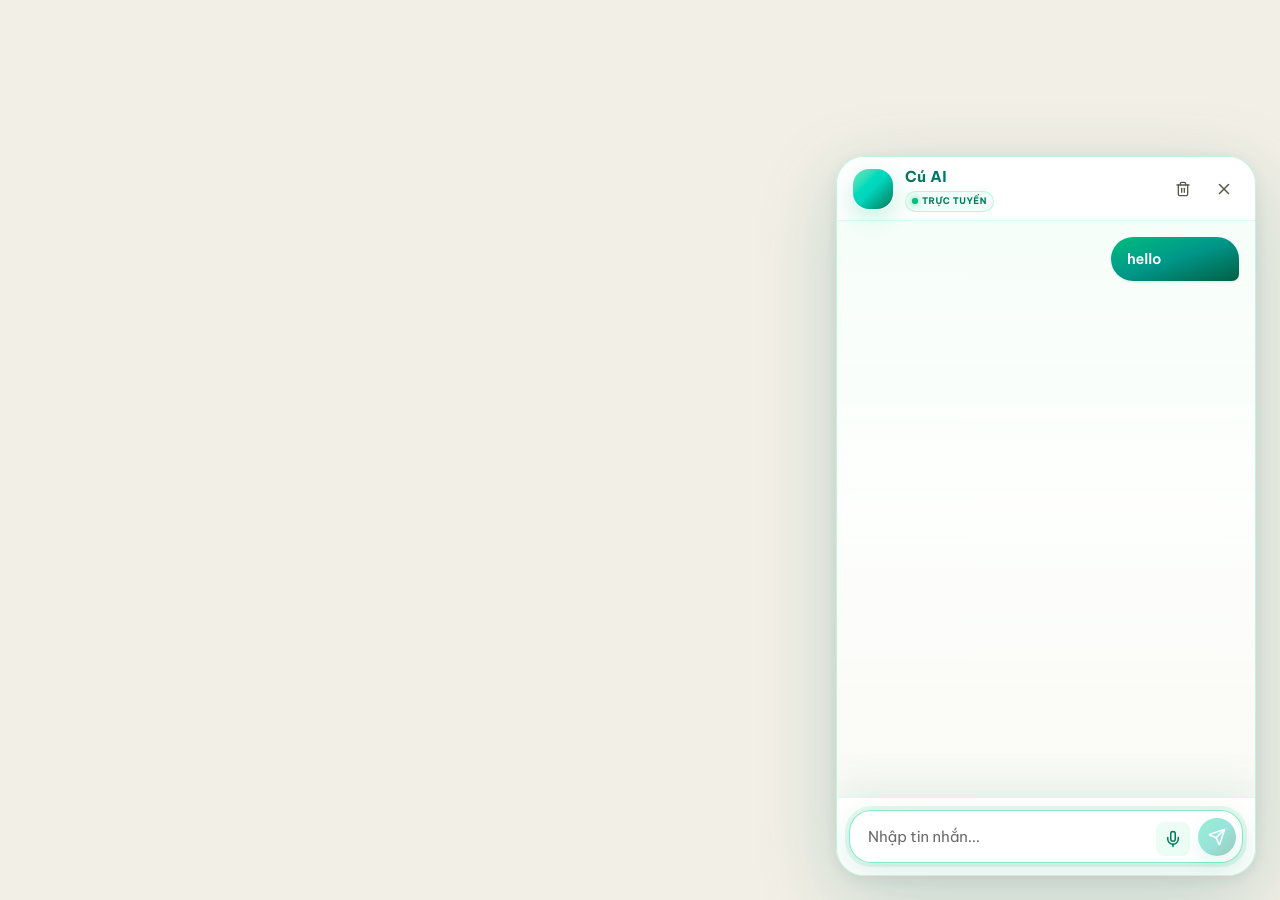
AssistantPanel › clears history when user confirms
Check: the text "hello" is shown, box [1127,249,1162,268]
Click the button named "Xóa lịch sử chat" at (1183, 188), box [1169,174,1197,202]
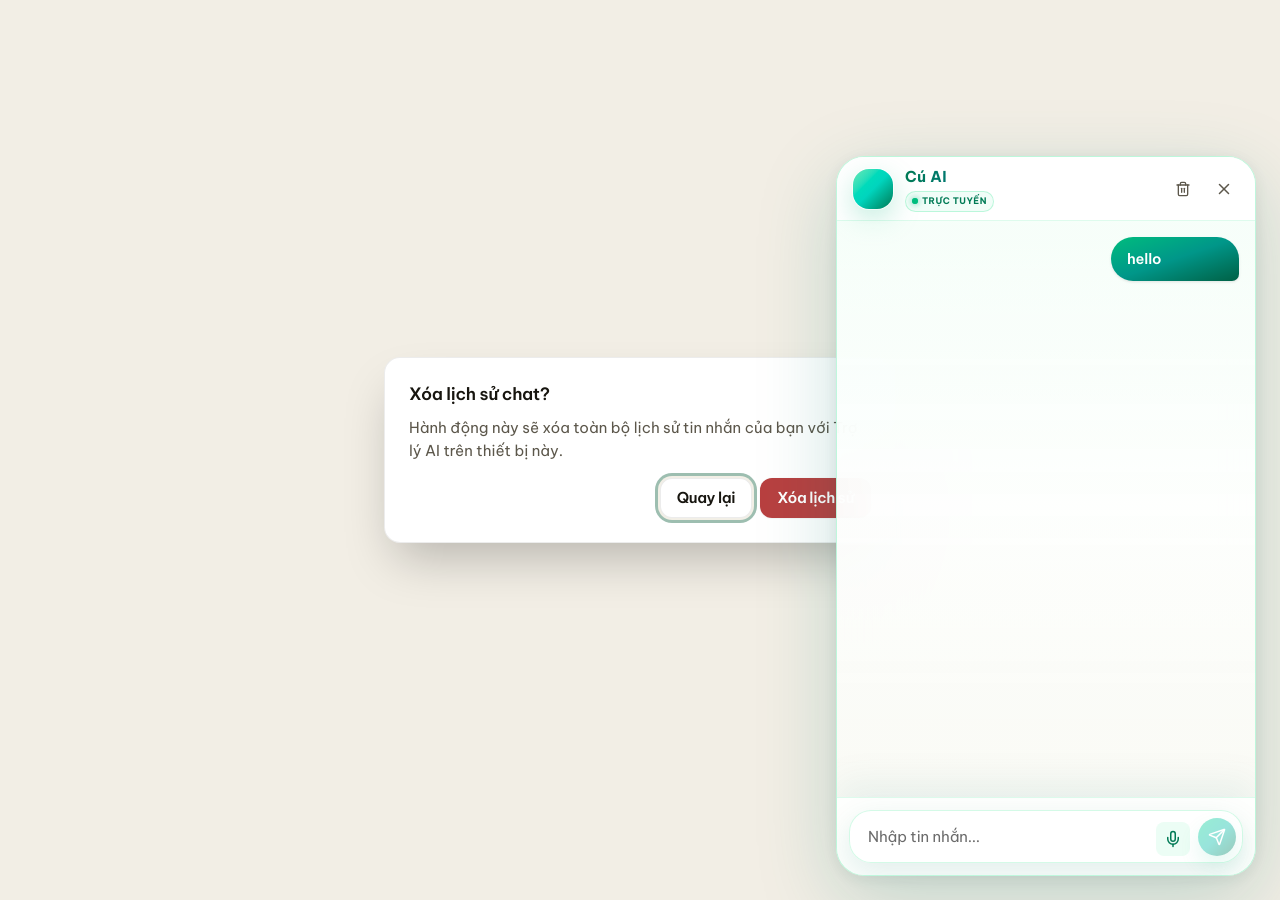
Click the button "Xóa lịch sử" at (816, 498), box [760,478,871,518]
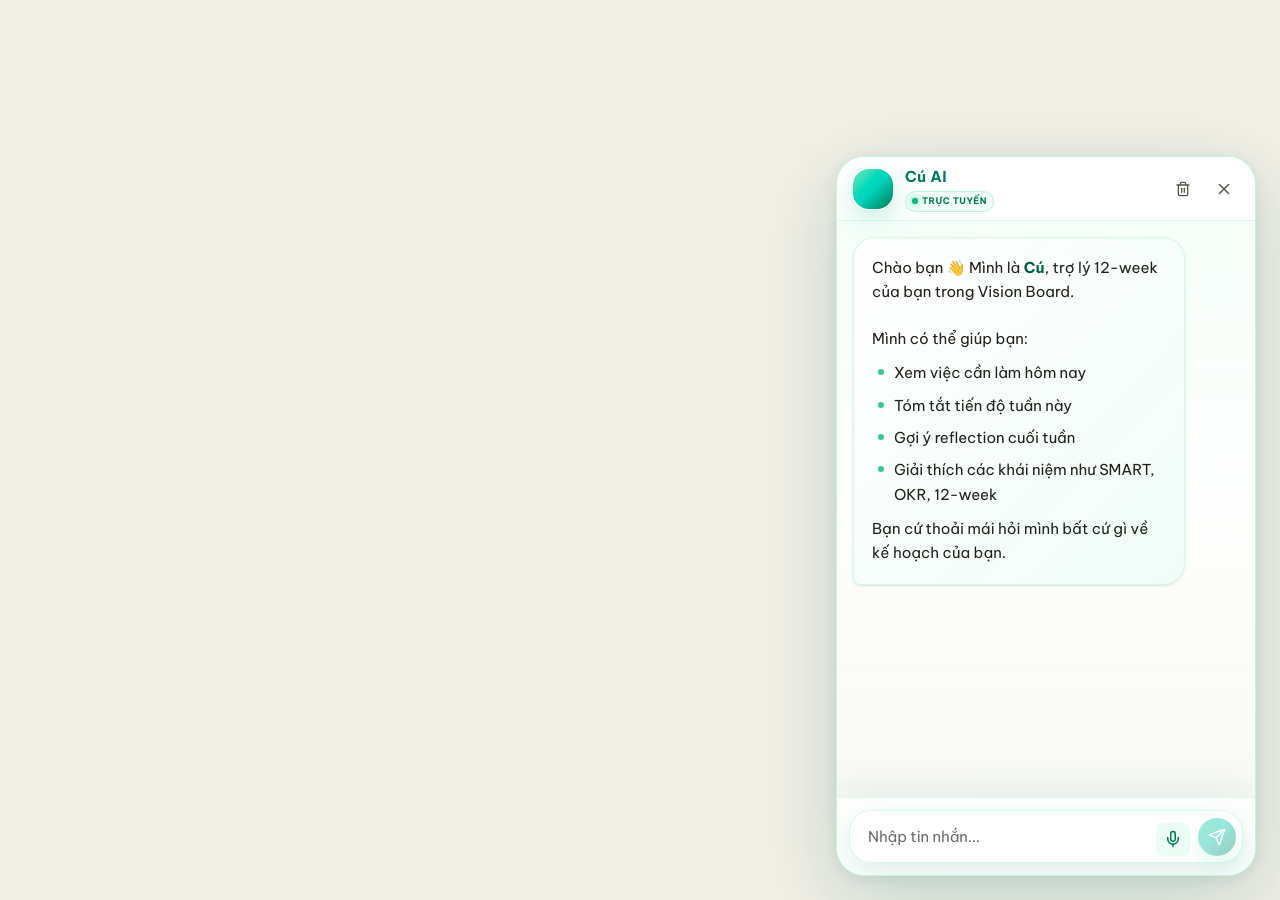
Check: the text "hello" is gone
